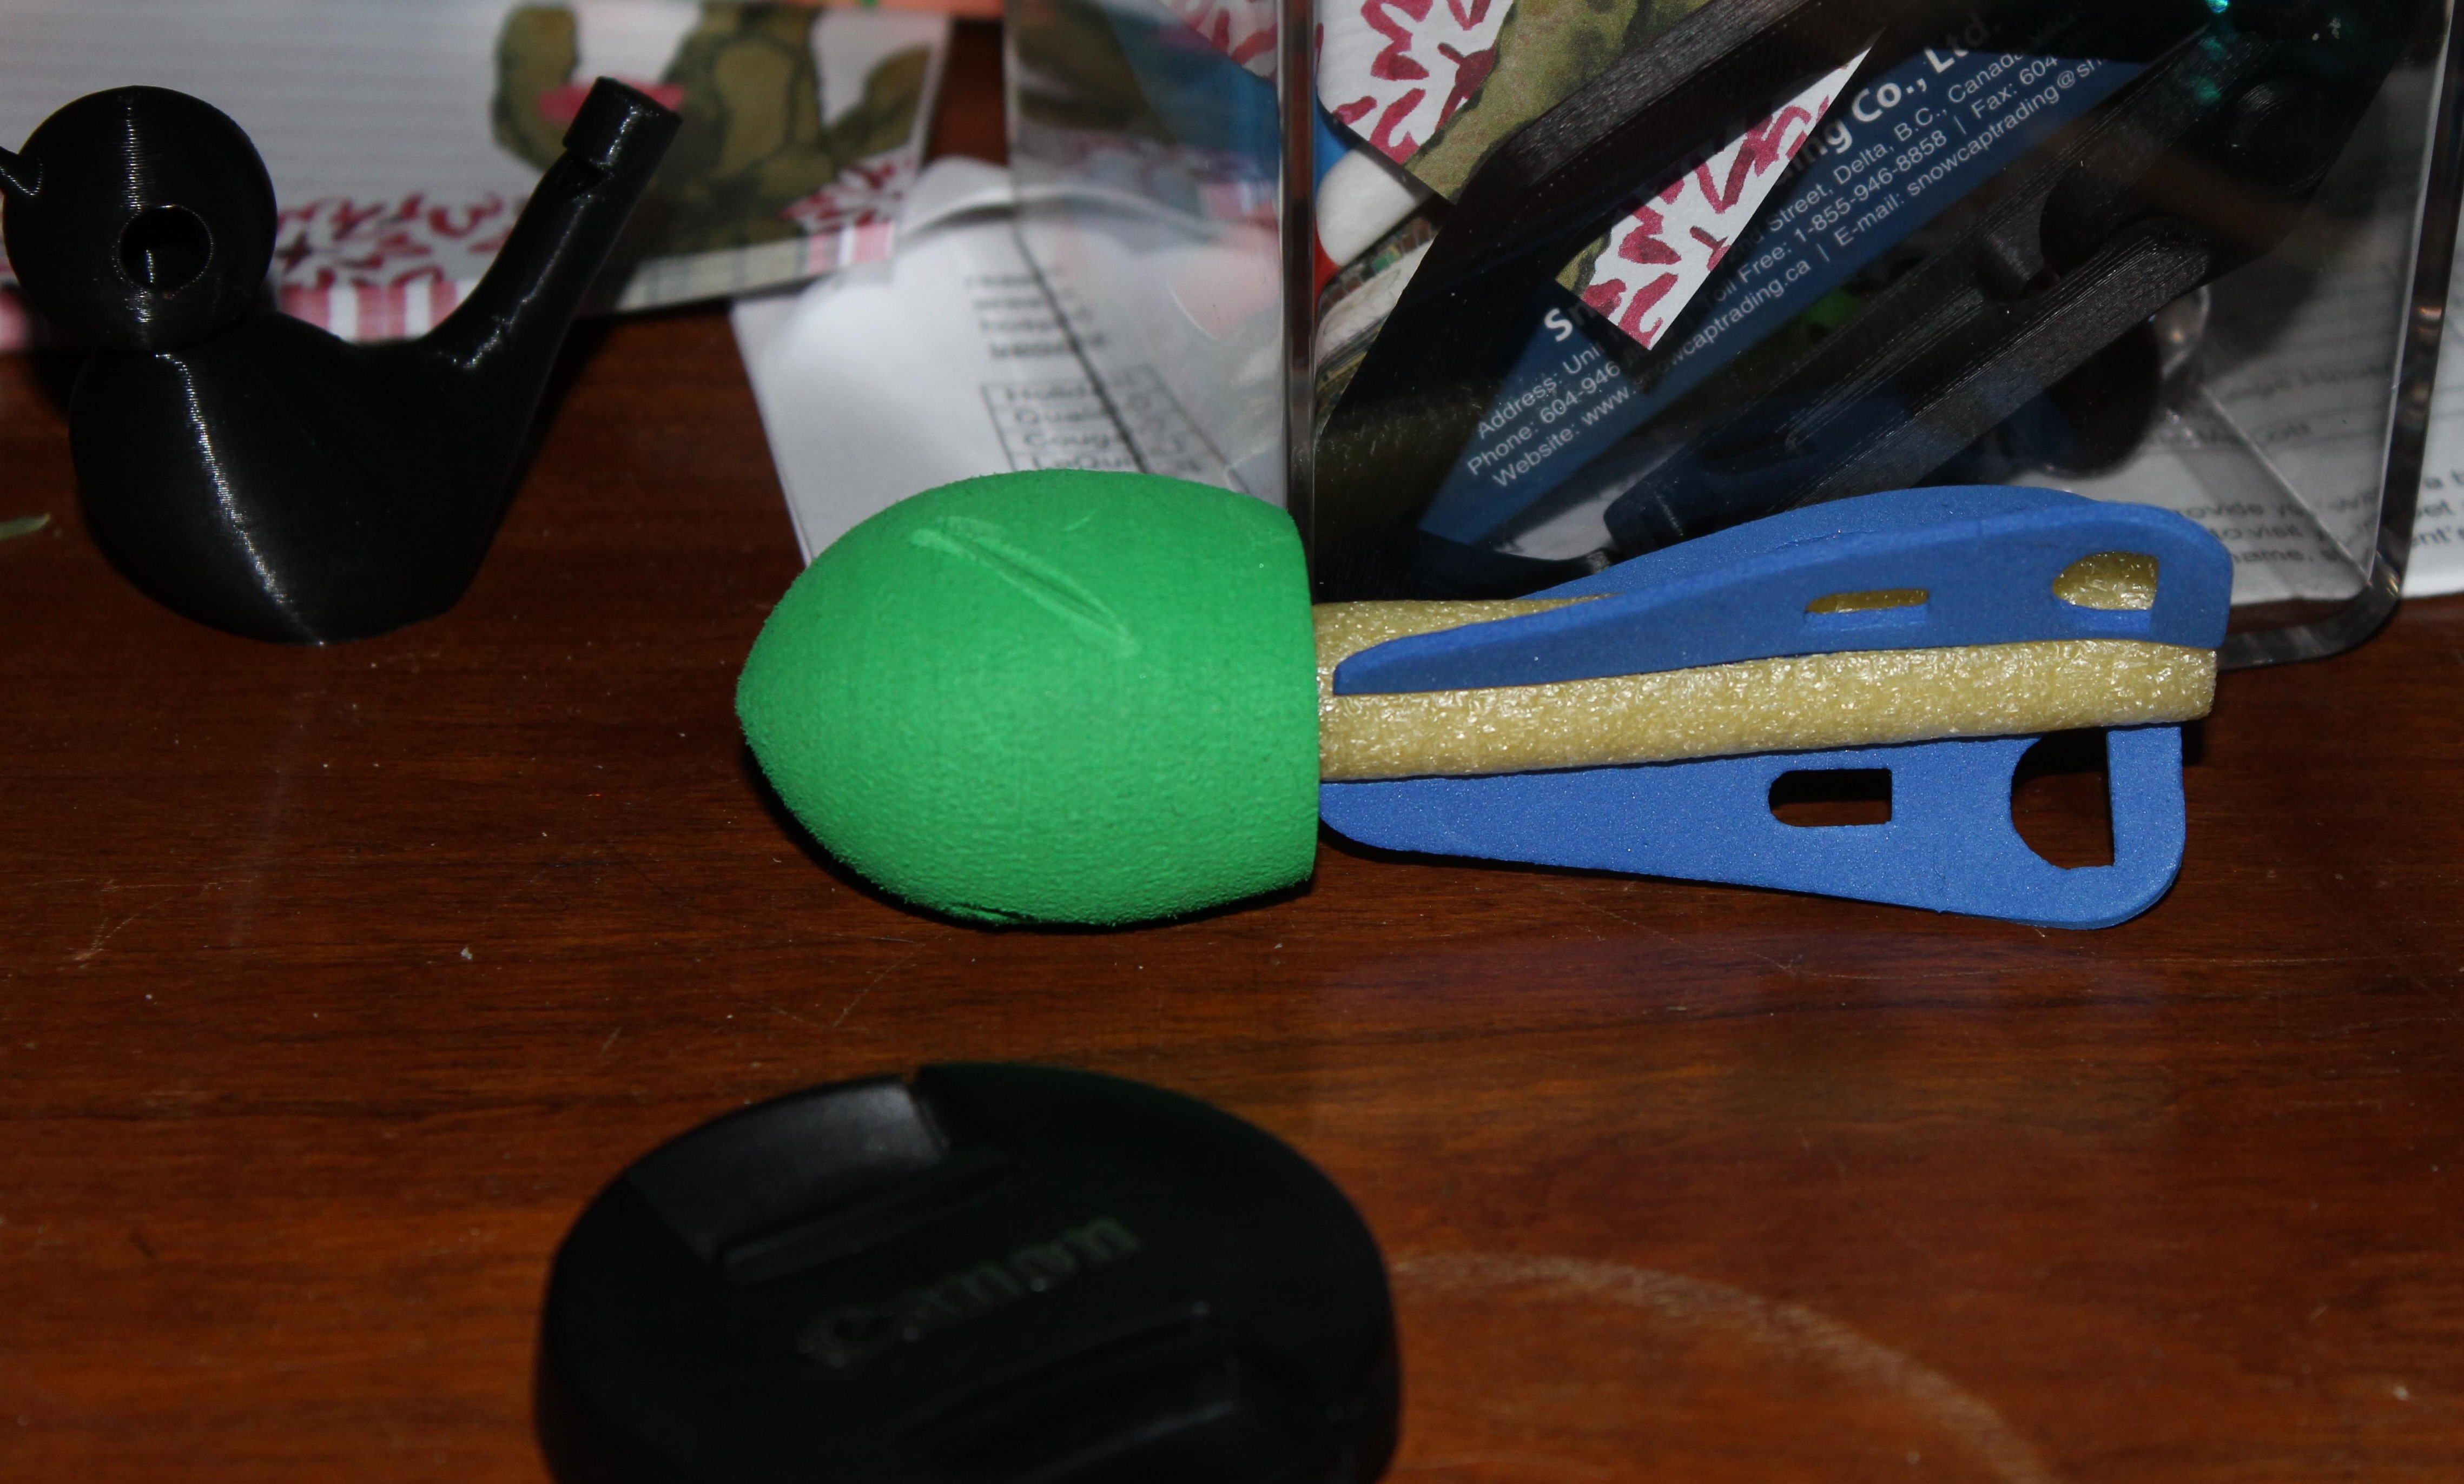foamDart: (704, 403, 2269, 970)
